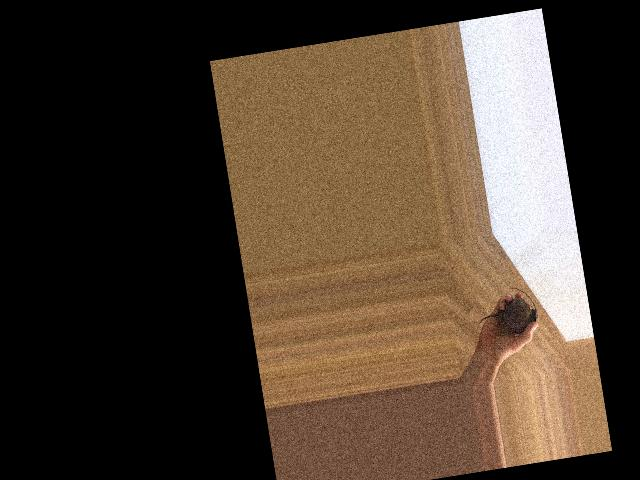beet: (474, 283, 540, 339)
